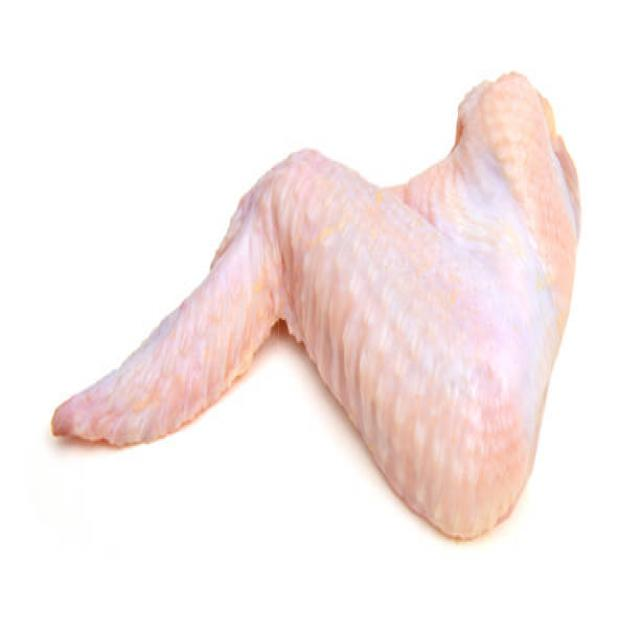Chicken: (53, 64, 586, 554)
